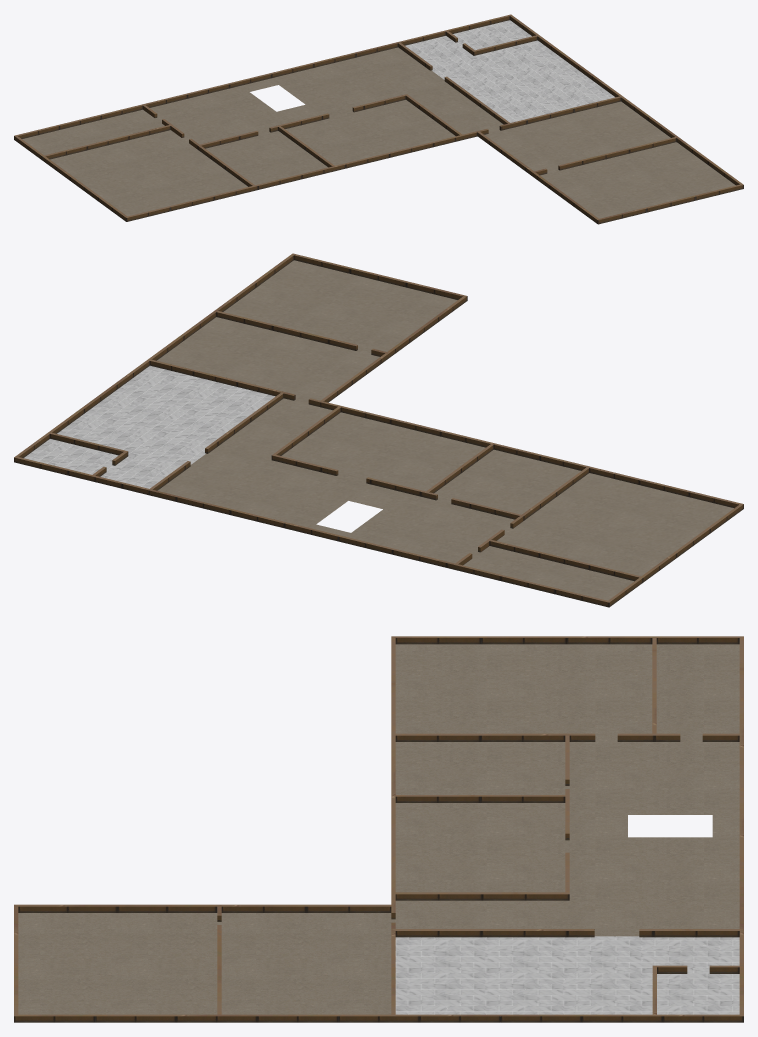
Rendered from rixi_2fban.FBX.
3 views of the same model, one above another, from view 1: azimuth 30°, elevation 25°; view 2: azimuth 150°, elevation 25°; view 3: azimuth 270°, elevation 25° (orthographic). The views are drawn at different scales.
Visible parts, largest first — view 1: DrawCall_1754, DrawCall_1753, Group009; view 2: DrawCall_1754, DrawCall_1753, Group009; view 3: DrawCall_1754, DrawCall_1753, Group009.
Part boxes in pixels (left/top/right/bottom): DrawCall_1754: left=22, top=47, right=735, bottom=218; DrawCall_1753: left=14, top=14, right=743, bottom=224; Group009: left=405, top=20, right=614, bottom=122; DrawCall_1754: left=157, top=260, right=733, bottom=600; DrawCall_1753: left=14, top=253, right=743, bottom=607; Group009: left=24, top=365, right=275, bottom=488; DrawCall_1754: left=18, top=644, right=739, bottom=1014; DrawCall_1753: left=14, top=636, right=743, bottom=1022; Group009: left=395, top=936, right=739, bottom=1014.
Bounding box in the file's own units: 3200 × 25.16 × 2596.
Materials: 3 (3 with a texture image).
